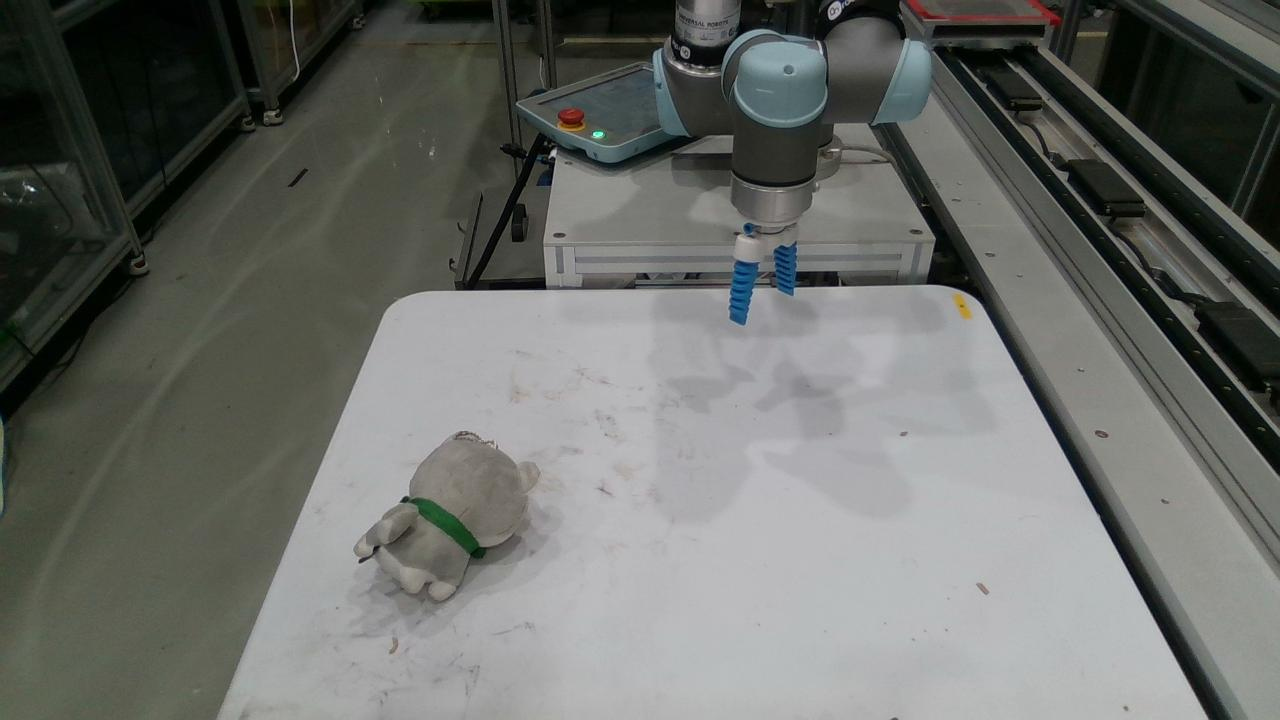UR5: (650, 0, 928, 261)
gripper_left: (730, 261, 758, 323)
gripper_right: (774, 244, 796, 291)
target: (356, 432, 536, 601)
